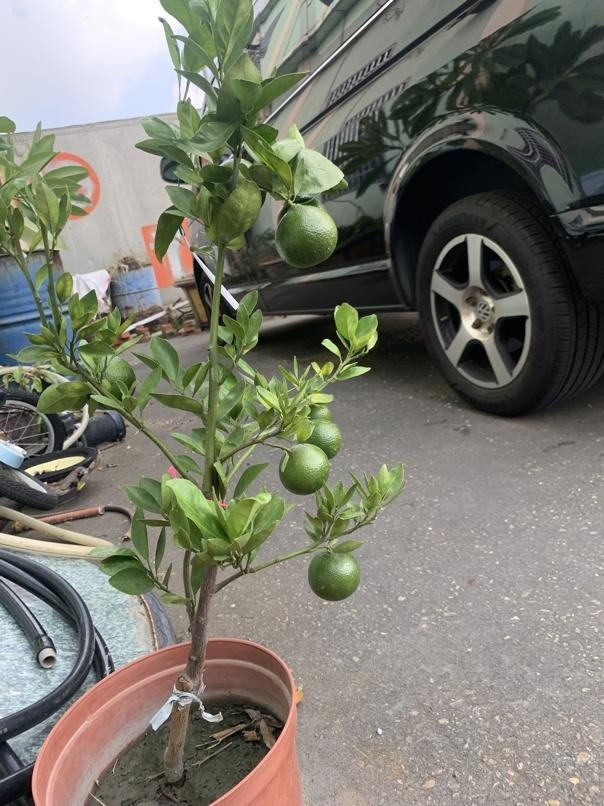Tangerine: (275, 204, 338, 269), (302, 542, 364, 604), (277, 444, 332, 495)
